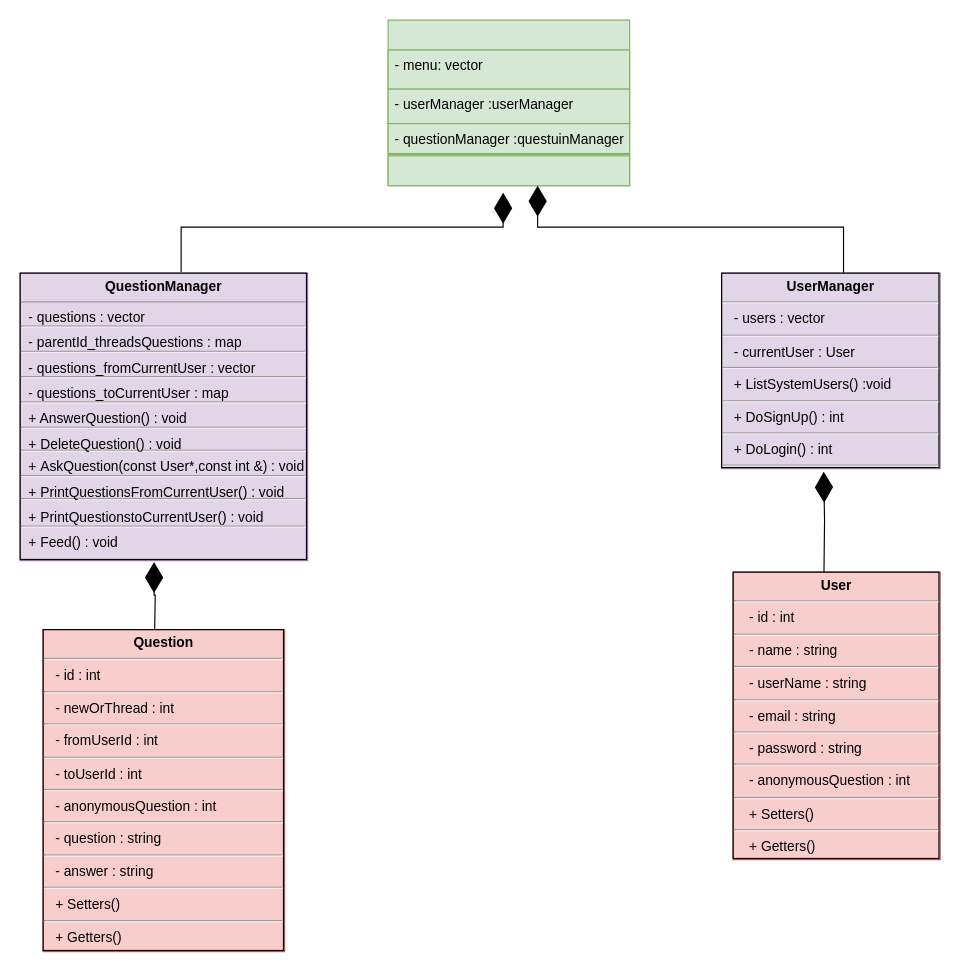
Image size: 960x972. Some labels were removed from this diagram. Here are the shapes that lost their labels. From the top down, the box of each, then its label:
(387, 19, 630, 186): Askme_System
(387, 155, 630, 186): + run() : void
